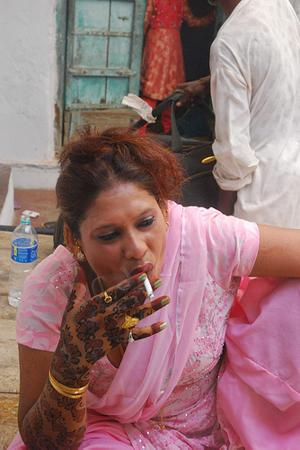person: (6, 126, 300, 450)
